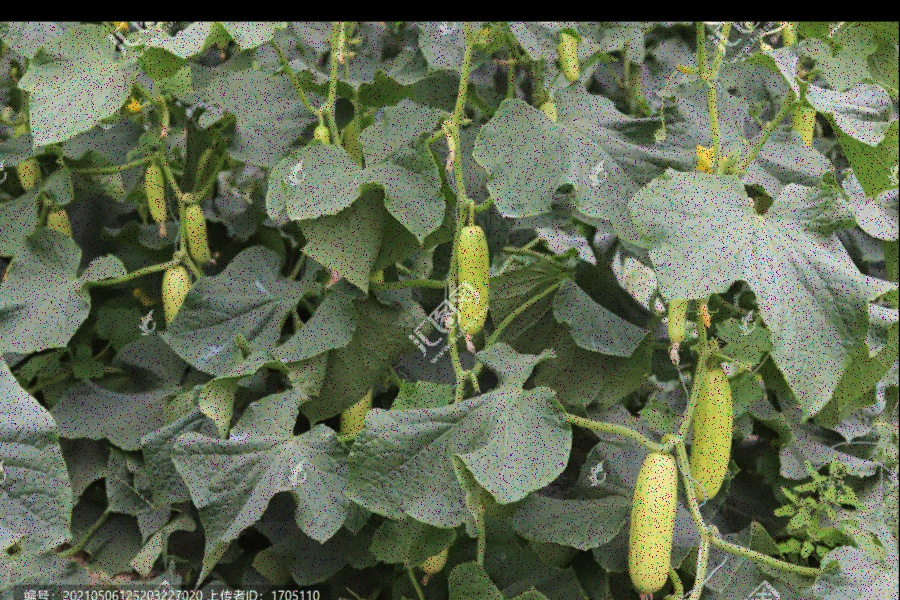cucumber_plant: (645, 136, 861, 411), (187, 399, 563, 542), (27, 22, 185, 151)
